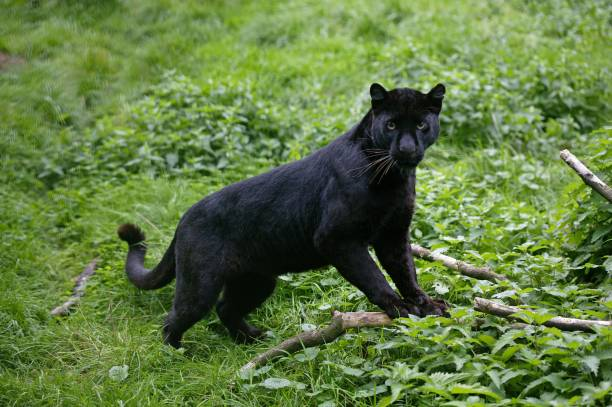panther: (362, 78, 448, 184)
